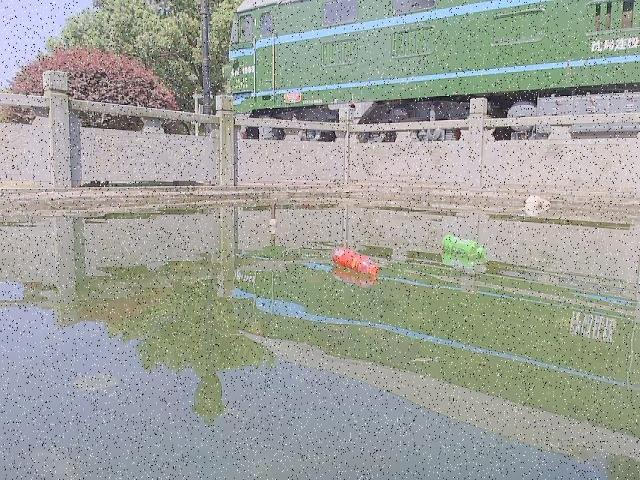Bottle: (328, 242, 387, 283), (439, 232, 492, 267)
Waste: (519, 193, 556, 218)
